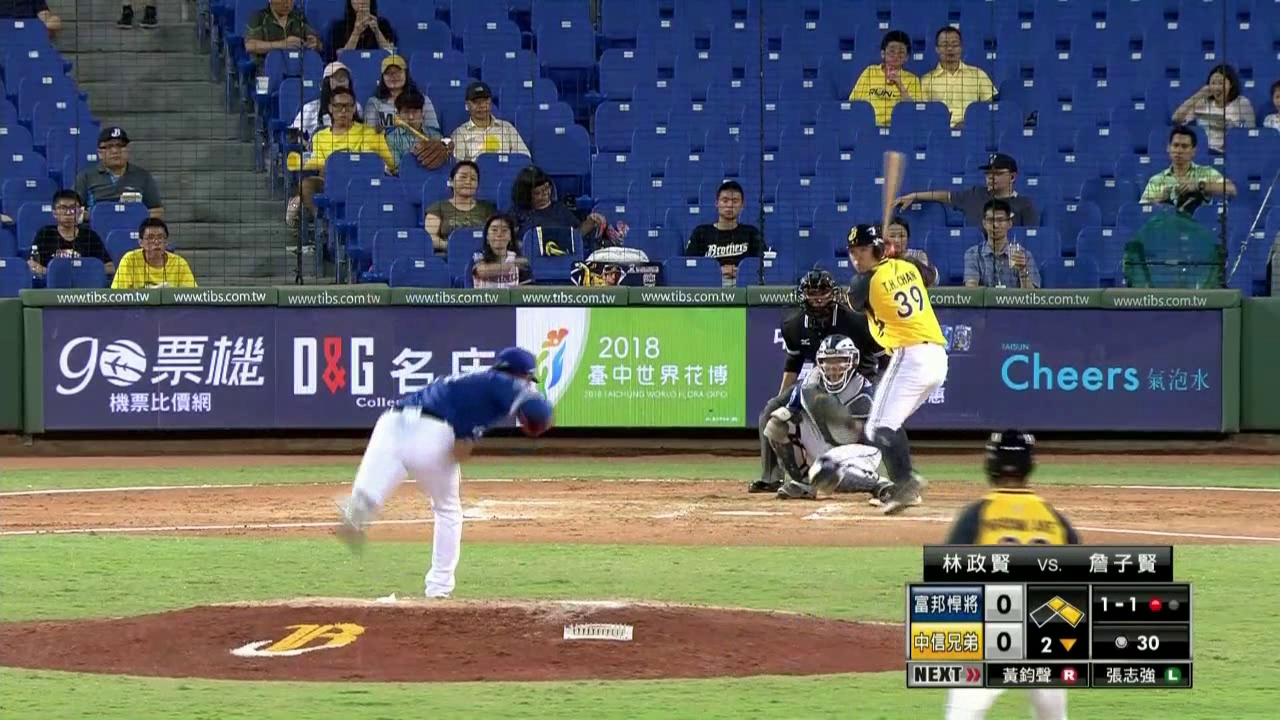base: (1027, 589, 1087, 626)
bat: (878, 147, 911, 235)
out: (1142, 590, 1190, 617)
score1: (987, 588, 1020, 620)
score2: (986, 625, 1019, 655)
session: (1028, 627, 1086, 659)
strikeball: (1093, 588, 1139, 619)
total: (1094, 625, 1185, 655)
